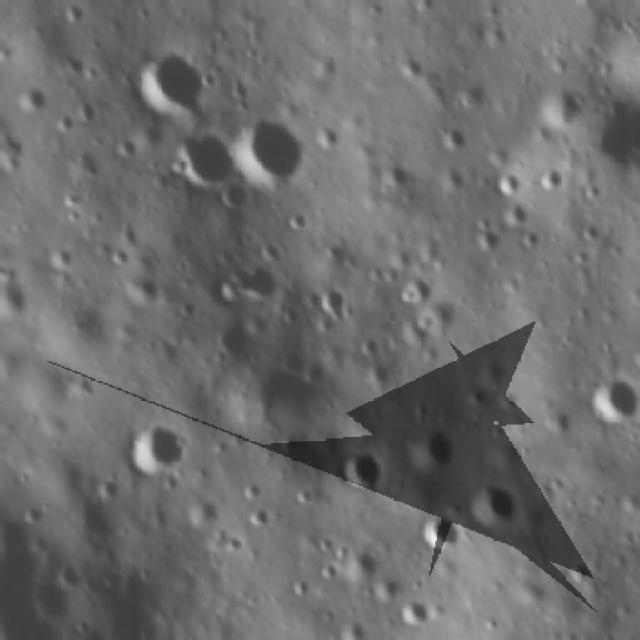crater: (584, 84, 640, 204), (128, 42, 207, 122), (238, 105, 307, 192), (124, 415, 191, 479), (173, 127, 238, 187), (586, 364, 640, 425), (465, 472, 518, 532), (407, 504, 467, 556), (217, 259, 280, 306), (537, 74, 591, 128), (408, 417, 455, 474), (339, 441, 384, 494), (208, 309, 254, 353), (466, 206, 509, 246), (216, 172, 256, 212), (434, 119, 474, 158), (397, 596, 429, 636), (498, 187, 530, 224), (494, 163, 526, 197), (536, 161, 564, 194)
